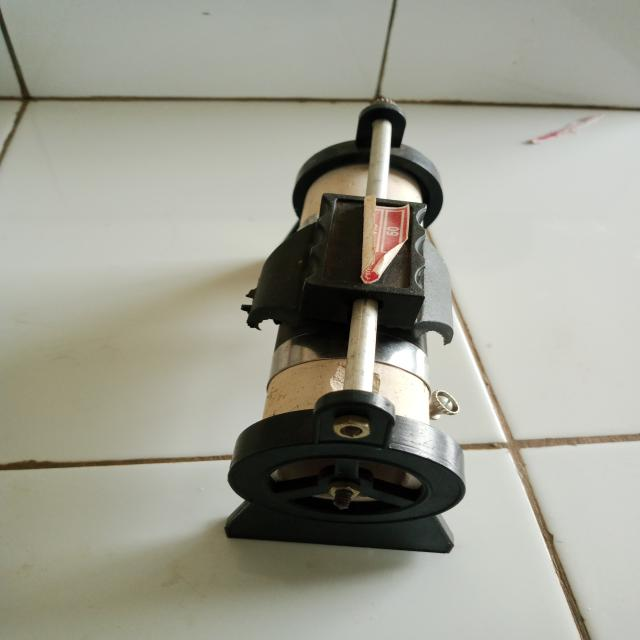Rheostat: (189, 64, 514, 569)
